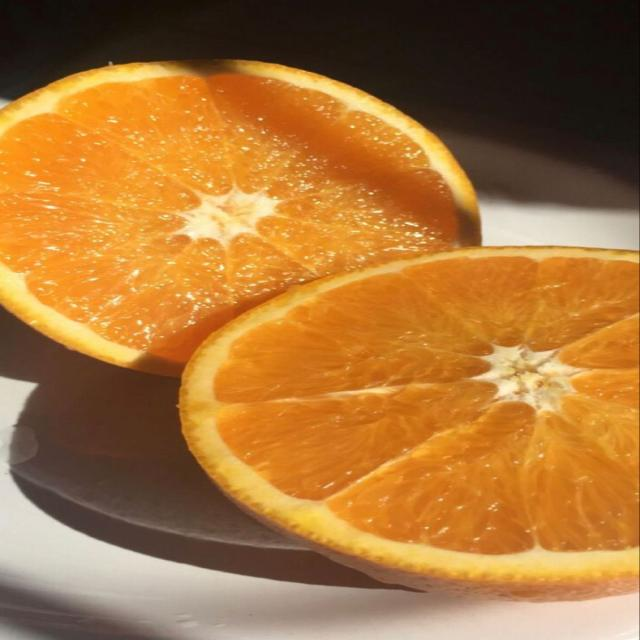orange: (181, 248, 638, 600), (0, 62, 479, 373)
